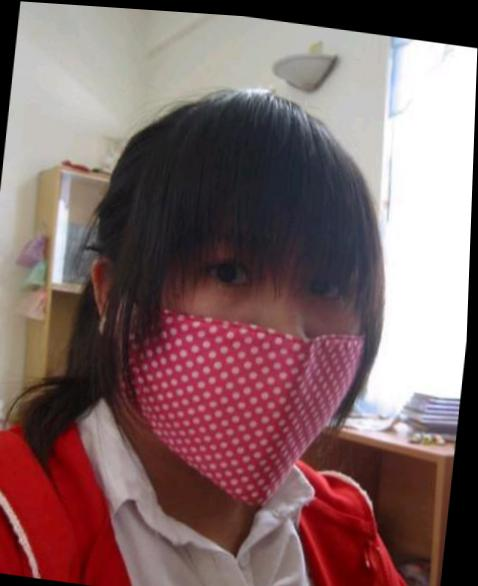WRONG: (126, 215, 391, 486)
